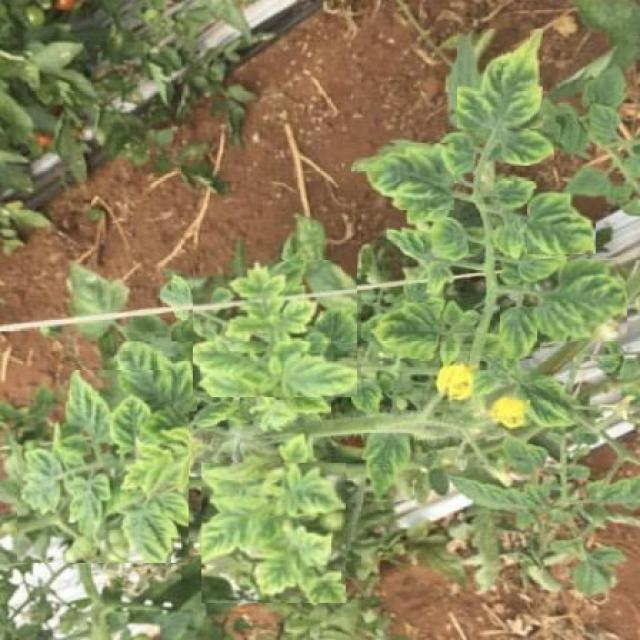Yellow Leaf Curl Virus: (17, 370, 189, 563), (193, 260, 357, 397), (201, 464, 346, 604), (457, 28, 543, 128), (537, 258, 627, 342), (357, 143, 454, 210), (115, 342, 198, 412), (528, 189, 596, 254), (279, 346, 357, 394), (374, 303, 440, 358), (363, 433, 414, 501), (431, 130, 476, 177), (500, 308, 540, 359), (500, 130, 554, 166), (428, 217, 469, 262)
